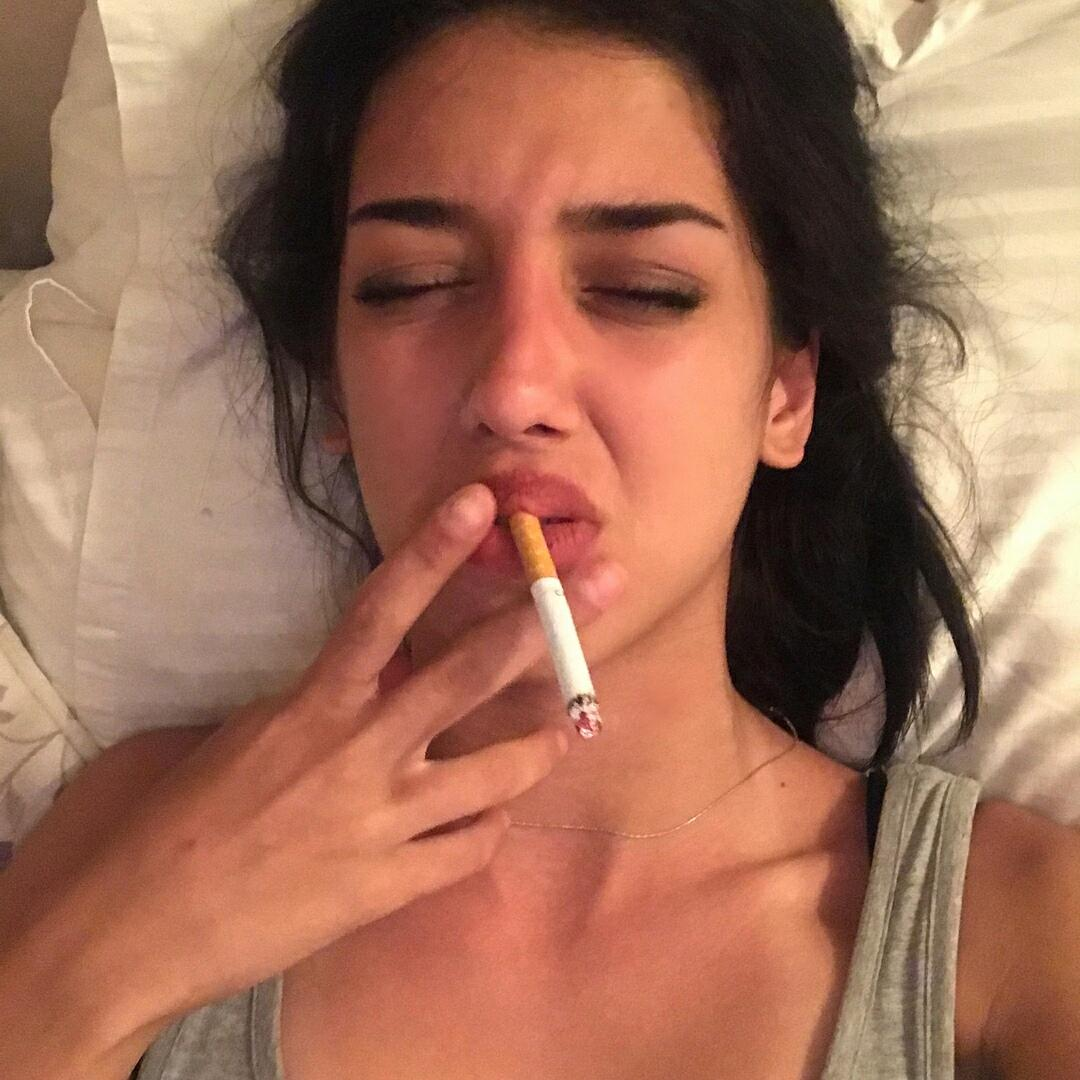cigarette: (508, 513, 603, 739)
